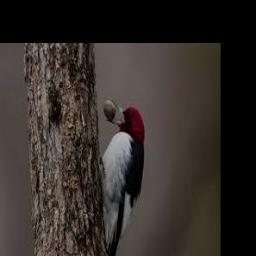Woodpecker: (100, 99, 145, 256)
